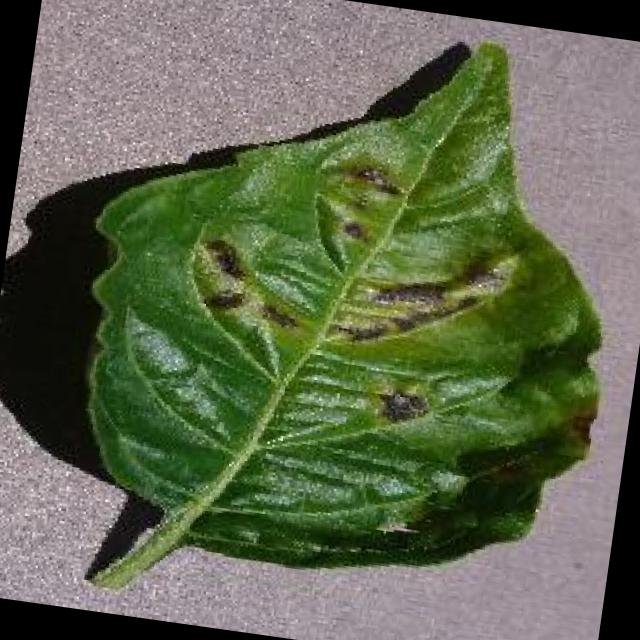Chilli_Bacterial_Spot: (39, 0, 640, 640), (168, 132, 530, 442), (318, 153, 408, 255), (183, 232, 256, 317), (362, 272, 451, 321), (369, 381, 434, 431), (340, 157, 408, 200), (197, 233, 250, 284), (327, 311, 391, 352), (254, 296, 302, 334), (198, 280, 246, 316), (562, 408, 598, 448), (334, 213, 372, 246)
